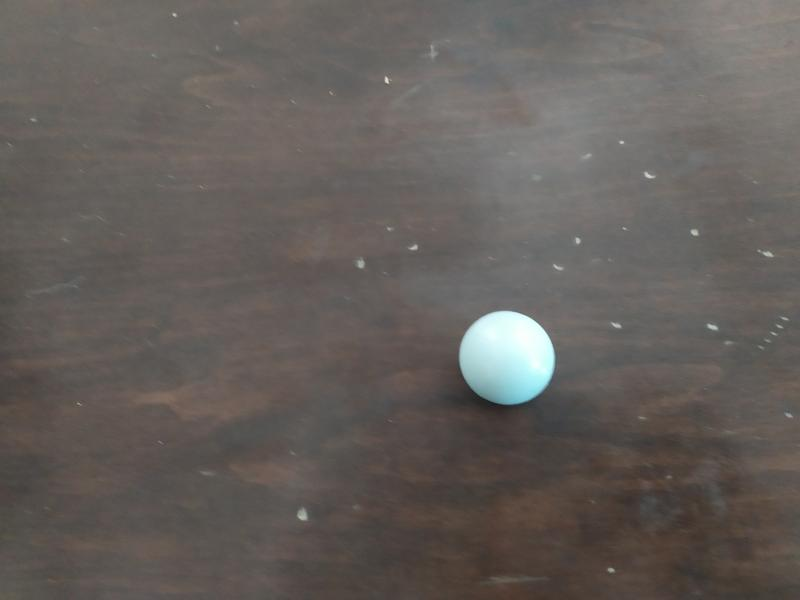Warning: (454, 307, 560, 409)
